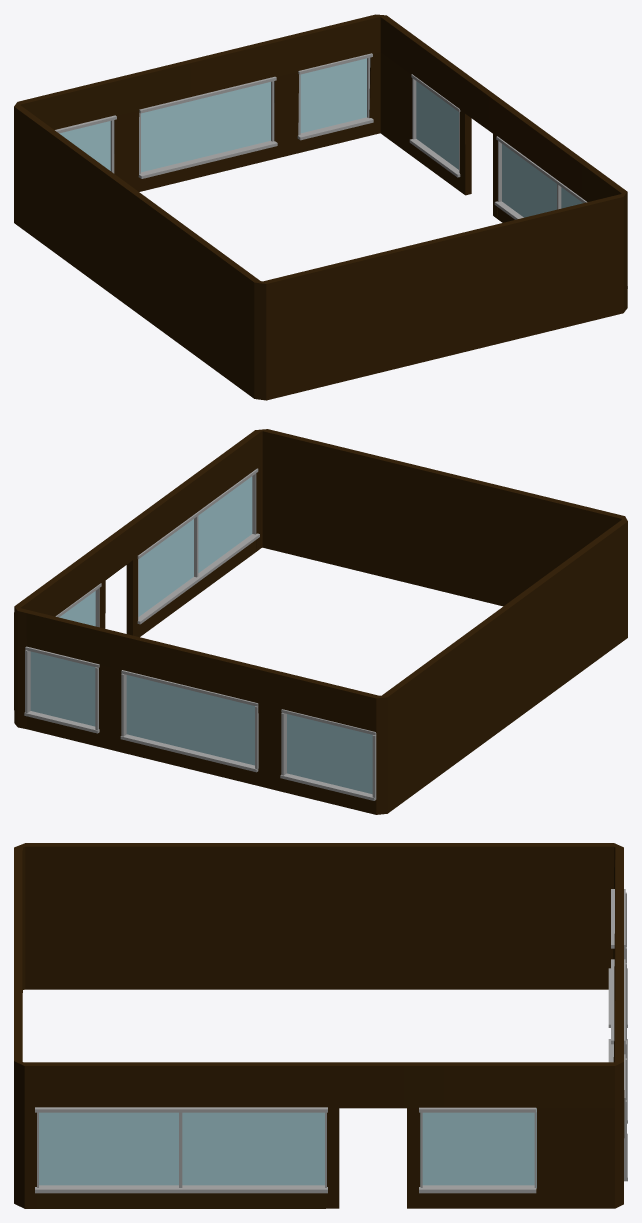
Rendered from Shop_Blockout.fbx.
3 views of the same model, one above another, from view 1: azimuth 30°, elevation 25°; view 2: azimuth 150°, elevation 25°; view 3: azimuth 270°, elevation 25° (orthographic). The views are drawn at different scales.
Visible parts, largest first — view 1: Building, Glass_Small_Blockout3, WindowFrames, Glass_Small_Blockout1, Glass_Large_Blockout, Glass_Small_Blockout, Glass_Small_Blockout2; view 2: Building, WindowFrames, Glass_Small_Blockout3, Glass_Large_Blockout, Glass_Small_Blockout2, Glass_Small_Blockout1, Glass_Small_Blockout; view 3: Building, Glass_Large_Blockout, WindowFrames, Glass_Small_Blockout.
Boxes of the visible parts, left/top/right/bottom form: Building: left=14, top=14, right=627, bottom=400; Glass_Small_Blockout3: left=141, top=82, right=270, bottom=172; WindowFrames: left=55, top=53, right=627, bottom=288; Glass_Small_Blockout1: left=300, top=58, right=366, bottom=133; Glass_Large_Blockout: left=502, top=144, right=582, bottom=217; Glass_Small_Blockout: left=416, top=81, right=458, bottom=169; Glass_Small_Blockout2: left=59, top=121, right=110, bottom=170; Building: left=14, top=429, right=627, bottom=814; WindowFrames: left=24, top=468, right=376, bottom=800; Glass_Small_Blockout3: left=126, top=675, right=254, bottom=765; Glass_Large_Blockout: left=138, top=476, right=252, bottom=616; Glass_Small_Blockout2: left=287, top=714, right=372, bottom=794; Glass_Small_Blockout1: left=30, top=651, right=95, bottom=726; Glass_Small_Blockout: left=59, top=591, right=95, bottom=626; Building: left=14, top=843, right=624, bottom=1208; Glass_Large_Blockout: left=39, top=1112, right=324, bottom=1185; WindowFrames: left=35, top=889, right=627, bottom=1193; Glass_Small_Blockout: left=420, top=1108, right=536, bottom=1187.
Bounding box in the file's own units: 1814 × 535 × 2085.
